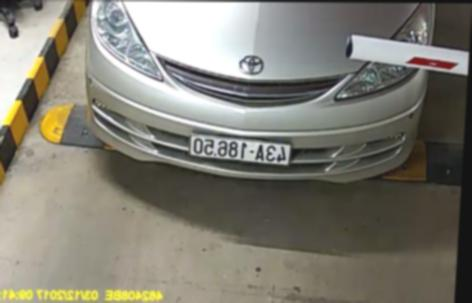License_Plate: (184, 133, 294, 167)
